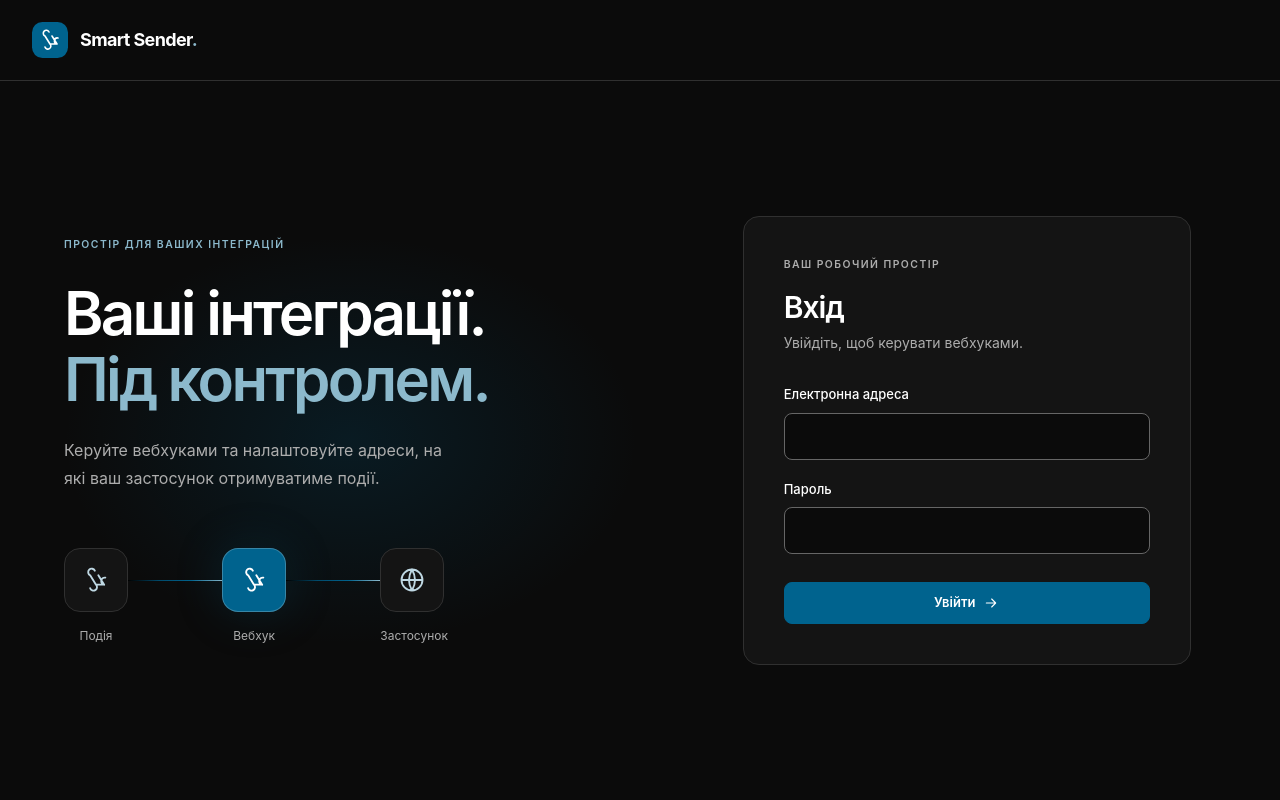
Test: protects the page and returns to its original URL after the complete login flow
The width and height of the screenshot is (1280, 800).
Expected: the heading "Вхід" is shown, [784,289,844,325]
Expected: the text "Керування вебхуками." is not shown
In the field labelled "Електронна адреса": (967, 436) [784,412,1150,460], type "senior@example.com"
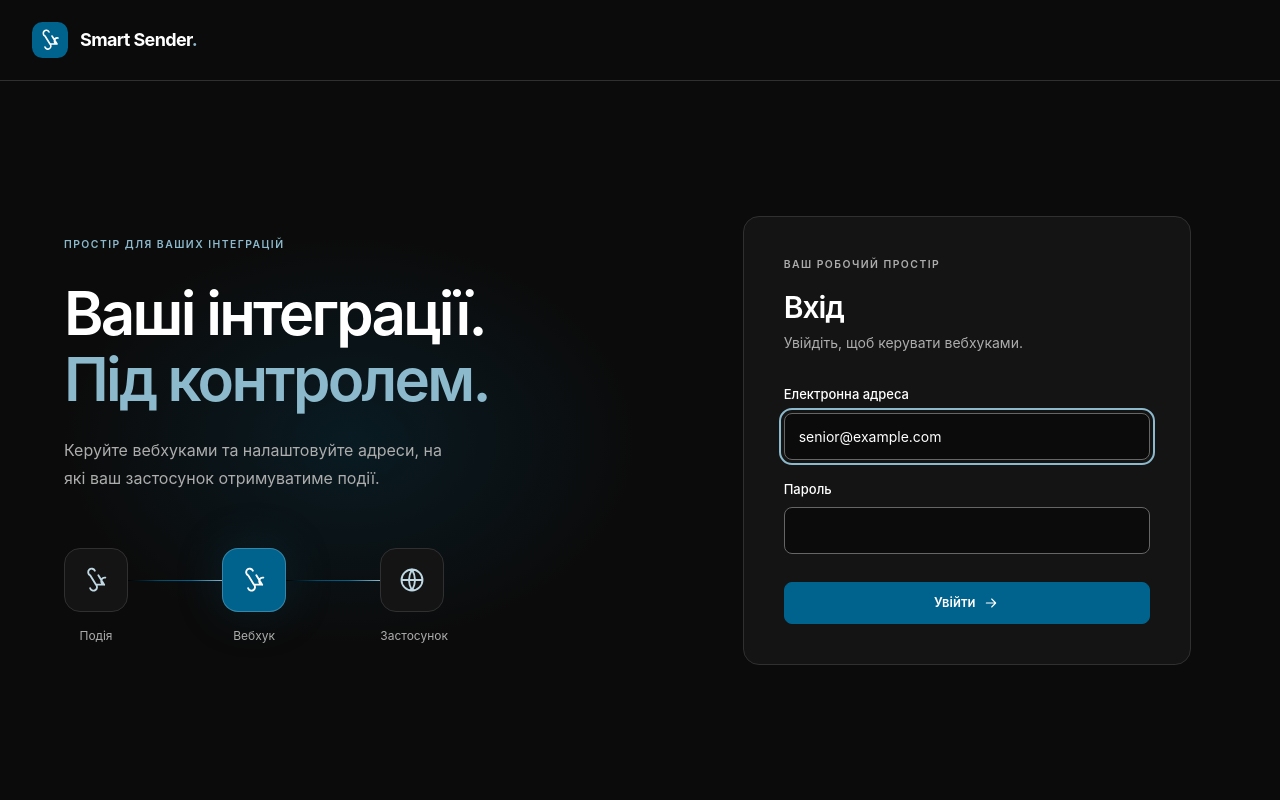
In the password field labelled "Пароль": (967, 530) [784,507,1150,554], type "SmartSender123!"
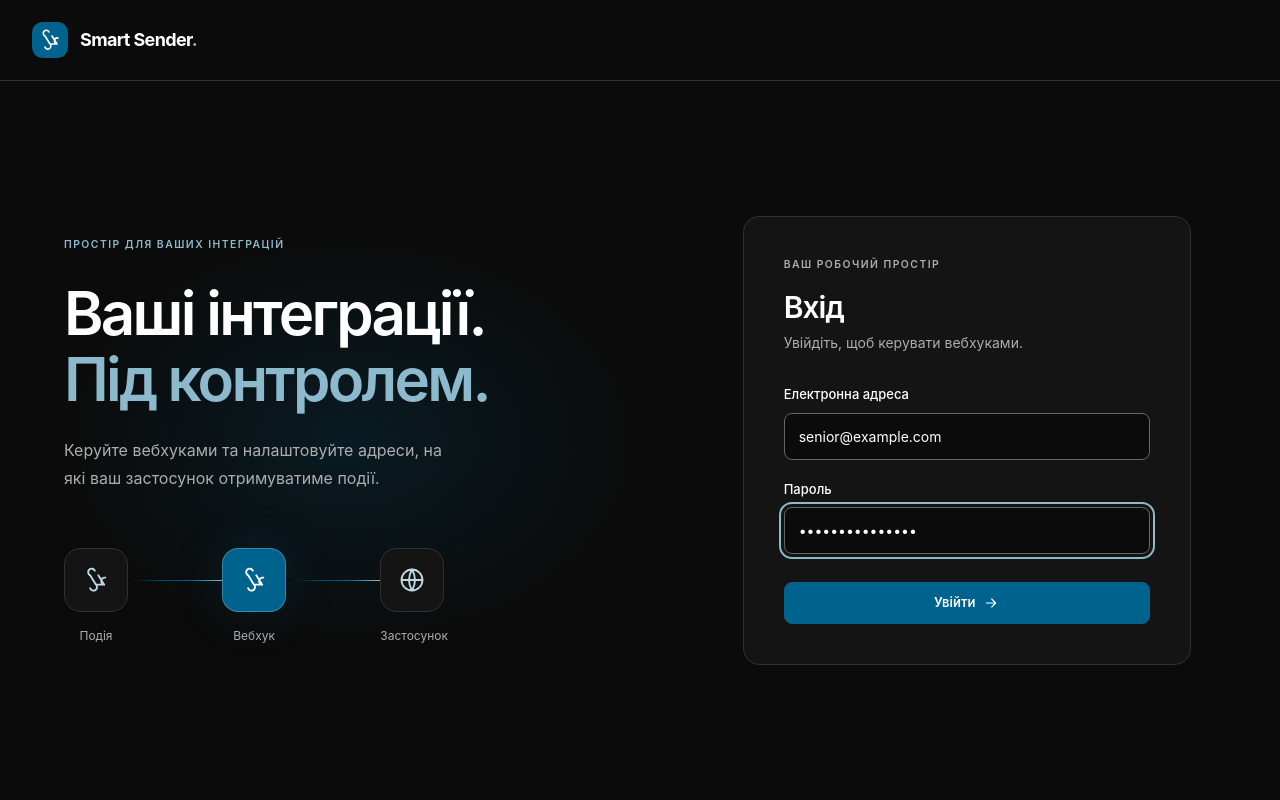
Click the button "Увійти": click(967, 603) [784,582,1150,624]
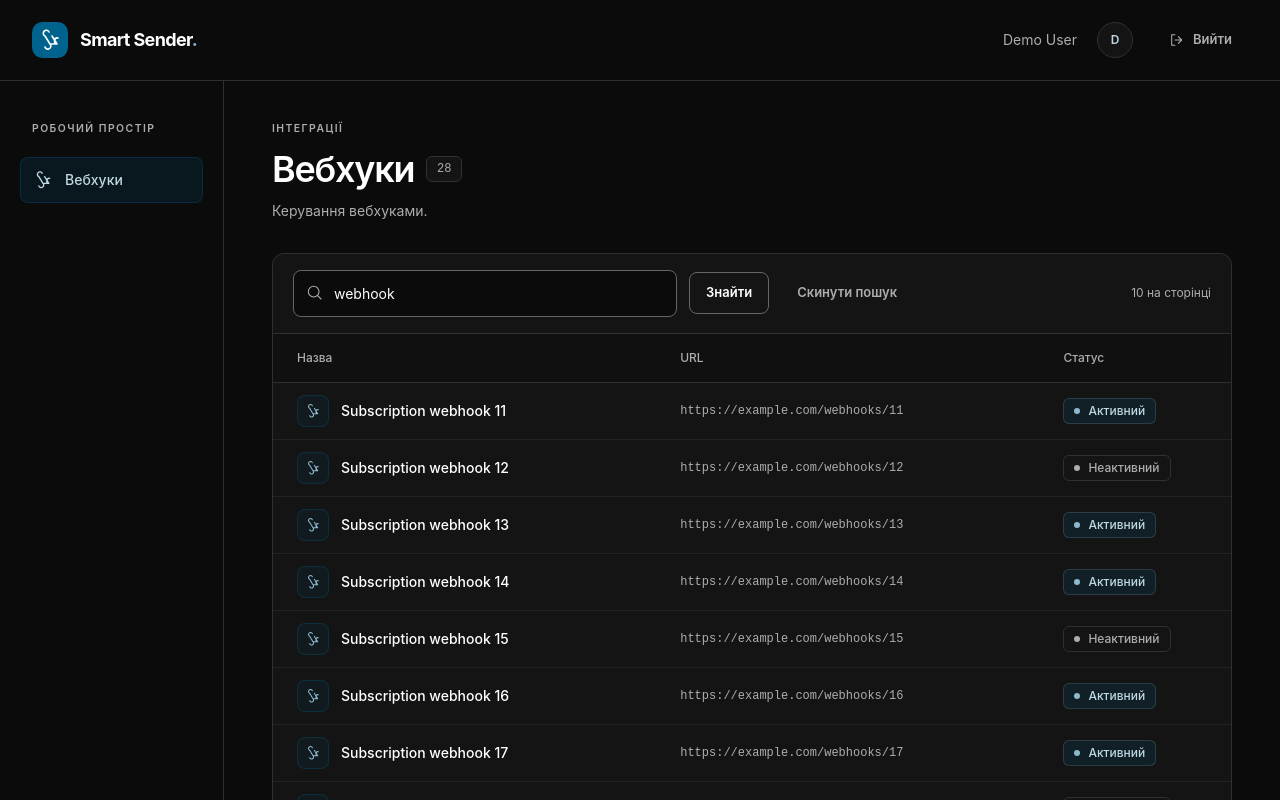
Result: the text "Керування вебхуками." is shown at [272,202,428,219]
Result: the text "Demo User" is shown at [1003,30,1077,50]
